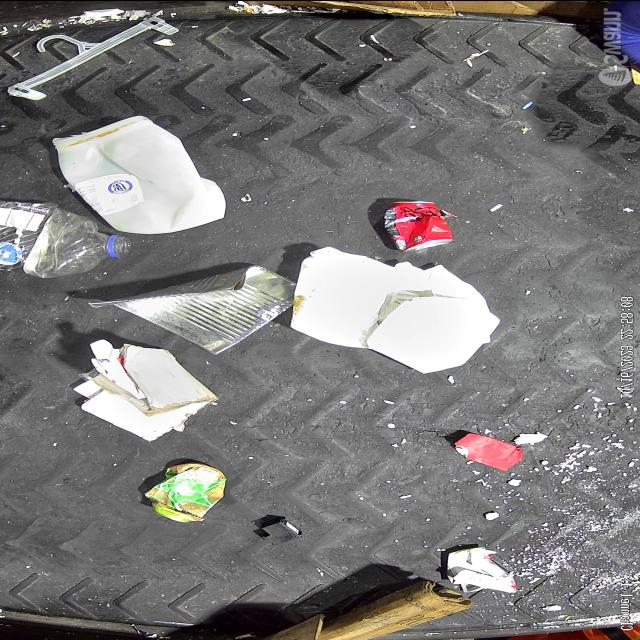can: (382, 200, 454, 252)
milk_jug: (52, 114, 228, 234)
plastic_bottle: (0, 199, 135, 278)
